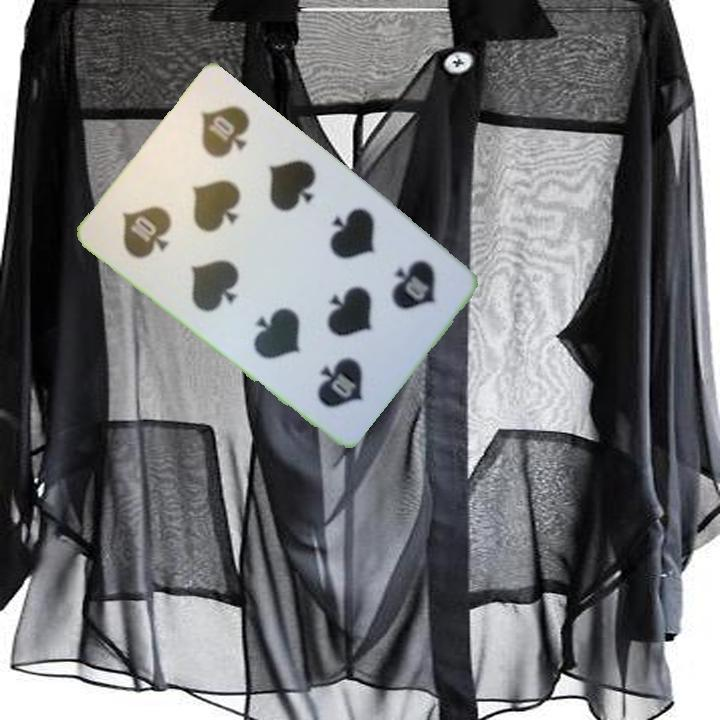s_10.png: (337, 228, 464, 358), (93, 156, 220, 285)
